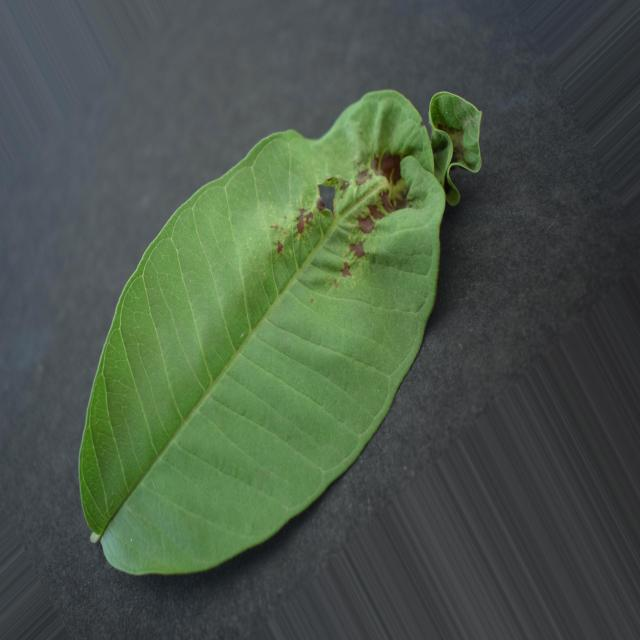Canker: (79, 90, 481, 574)
